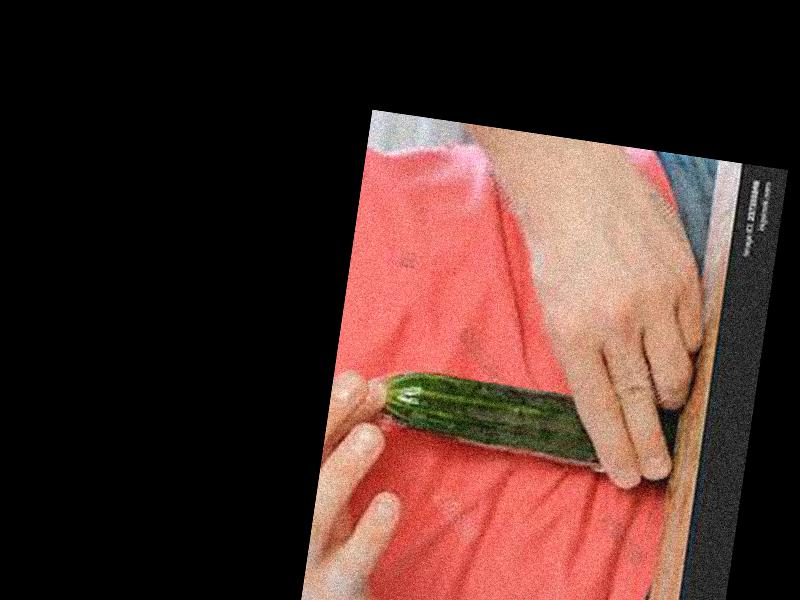Cucumber: (378, 365, 610, 467)
